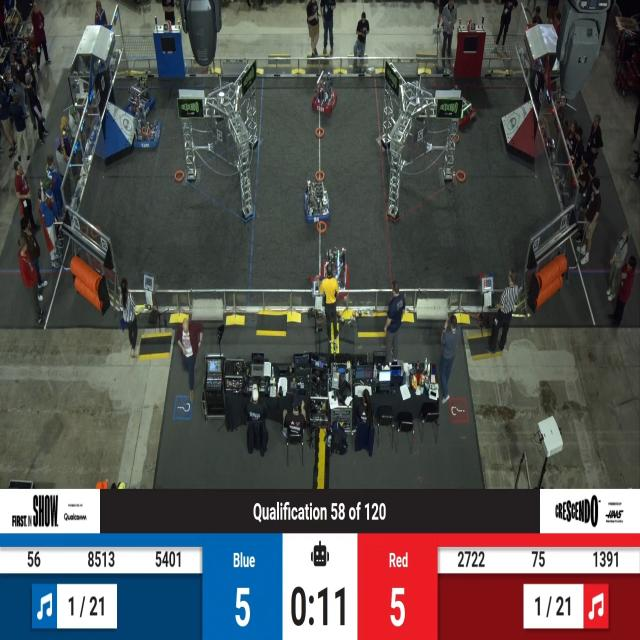Robot: (123, 70, 156, 127), (317, 242, 351, 291), (300, 178, 336, 224), (310, 67, 340, 121), (131, 109, 163, 156), (449, 80, 476, 130)
